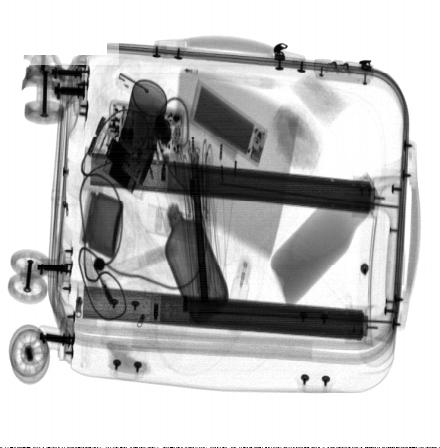Powerbank: (188, 79, 268, 168)
